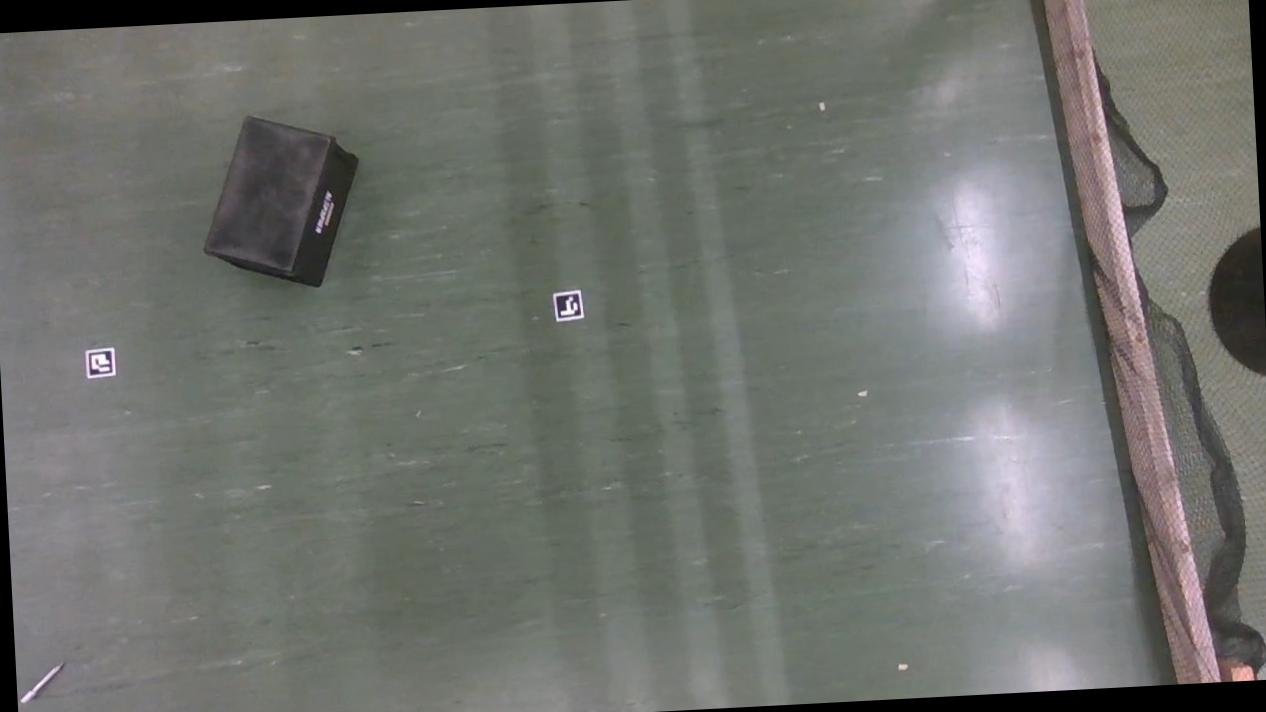probes: (16, 662, 66, 704)
rako: (196, 110, 367, 294)
